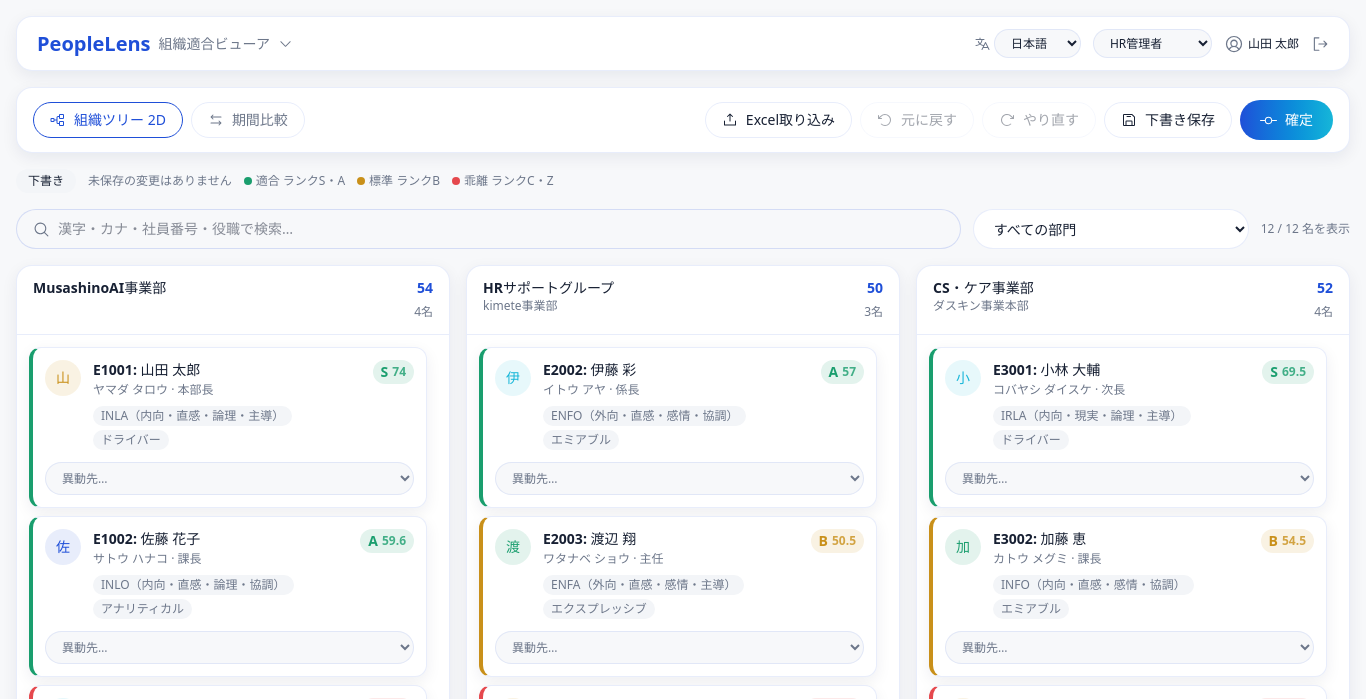
Test: PeopleLens organization board › locks the protected tab after switching to the manager role
The width and height of the screenshot is (1366, 699).
Select "マネージャー" in the dropdown named "ロール": (1152, 44) [1093,29,1212,58]
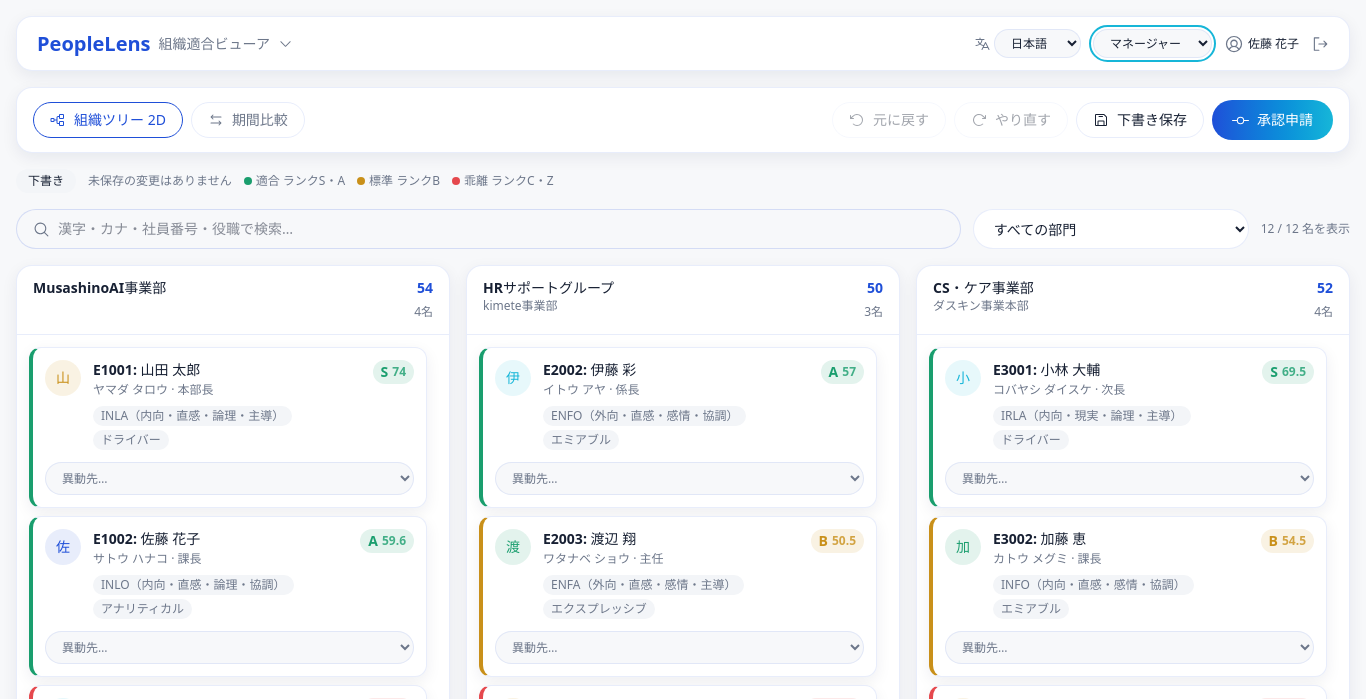
Click the button with aria-label "E1001 山田 太郎": (230, 405) [45,360,414,450]
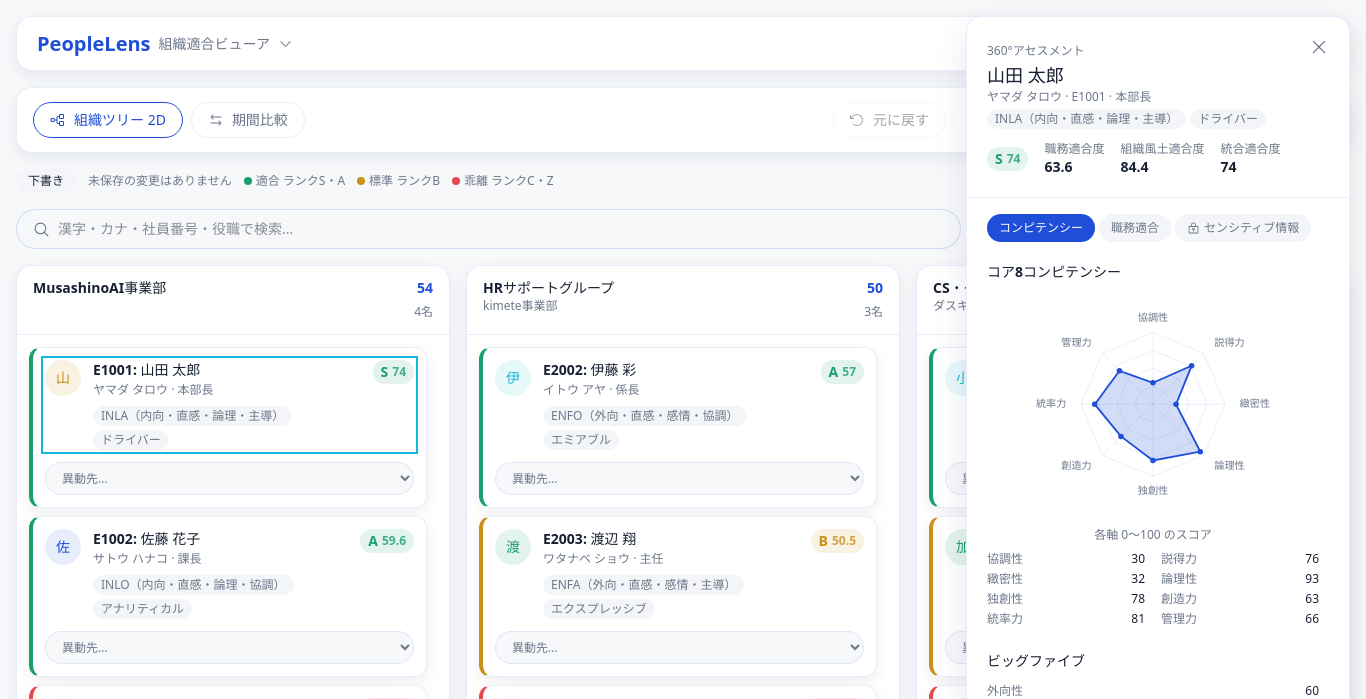
Click the tab "センシティブ情報": (1243, 228) [1175,214,1311,242]
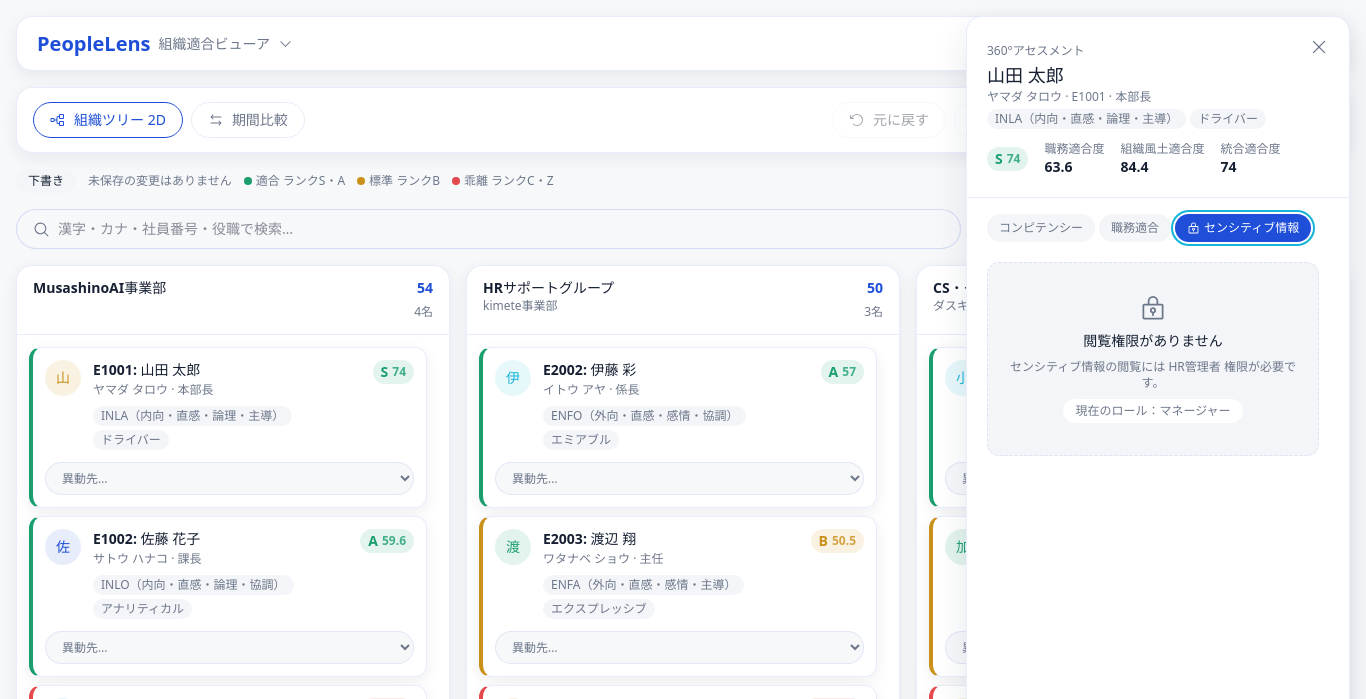
Expected: the text "閲覧権限がありません" is shown, [1083,331,1223,351]
